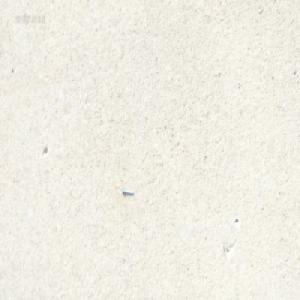Nail: (119, 186, 134, 195)
